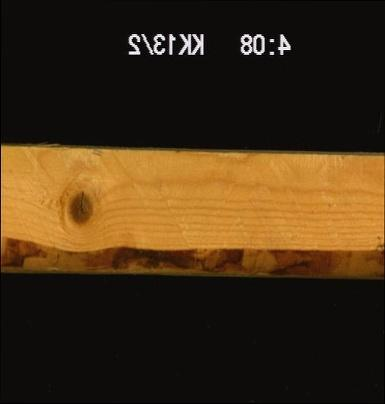sound_knot: (68, 188, 95, 226)
wave: (0, 232, 383, 278)
